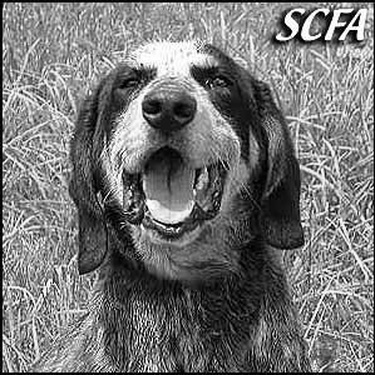dog: (55, 25, 329, 370)
